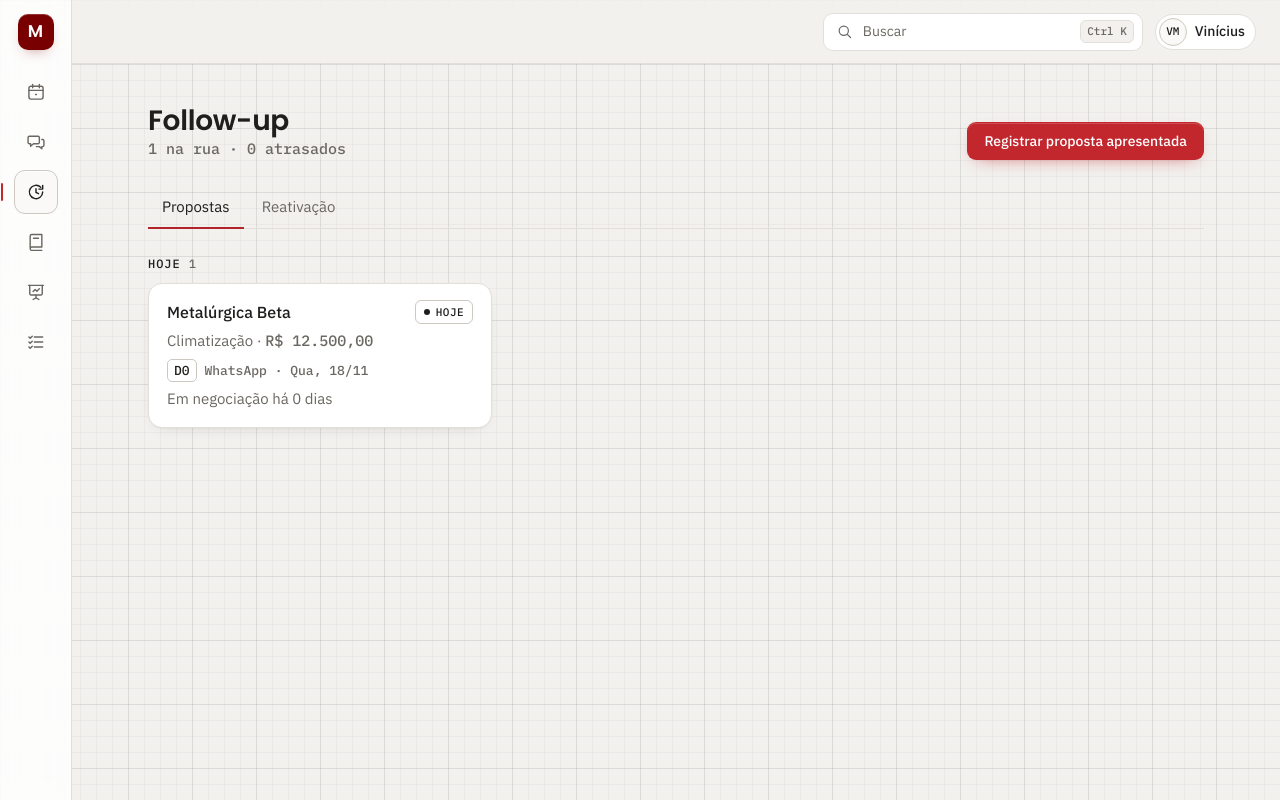
toque em foco mostra a mensagem preenchida e o que falta entre colchetes
Click the button "Metalúrgica Beta" at (229, 312), box [148, 283, 492, 428]
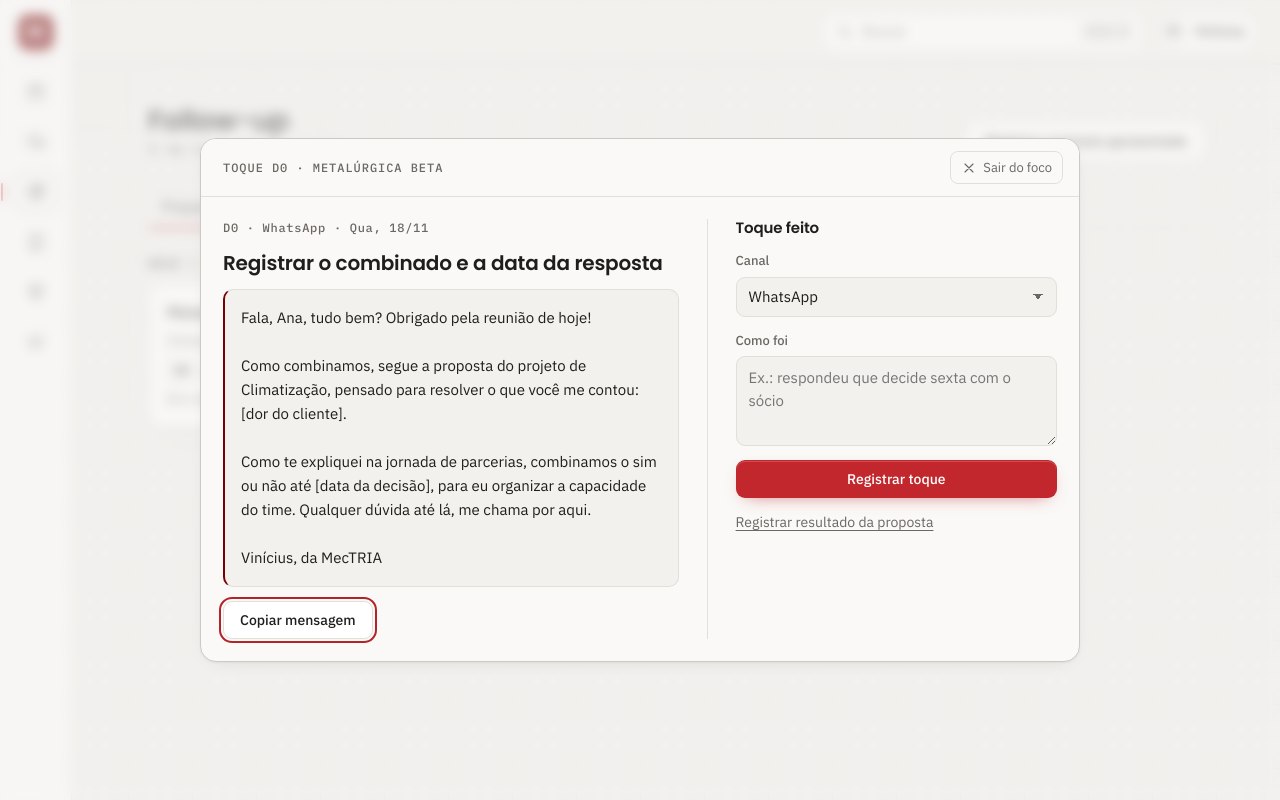
Expected: the text named "Mensagem do toque" shows "Fala, Ana, tudo bem?", [241, 308, 660, 567]
Expected: the text named "Mensagem do toque" shows "[dor do cliente]", [241, 308, 660, 567]
Expected: the text named "Mensagem do toque" shows "Vinícius, da MecTRIA", [241, 308, 660, 567]
